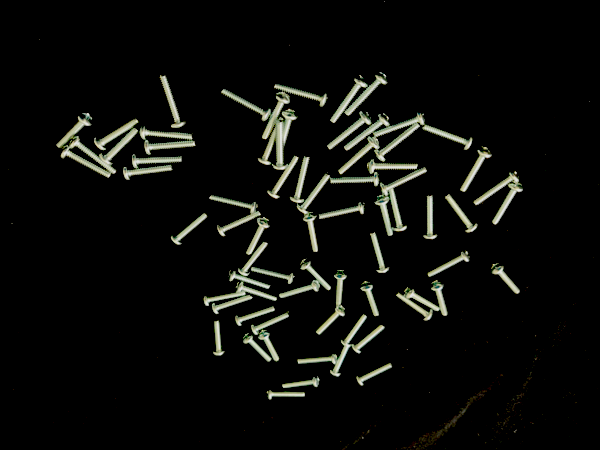longscrew: (344, 69, 390, 118), (329, 74, 370, 124), (69, 134, 118, 175), (219, 86, 273, 123), (325, 110, 373, 151), (344, 111, 391, 152), (373, 123, 421, 163), (474, 168, 521, 207), (60, 145, 112, 179), (93, 115, 140, 152), (337, 136, 381, 175), (158, 74, 188, 130), (458, 146, 493, 193), (99, 126, 140, 166), (378, 166, 429, 198), (374, 109, 427, 139), (273, 81, 329, 109), (54, 111, 95, 149), (296, 172, 332, 215), (267, 155, 301, 200), (261, 91, 292, 140), (492, 181, 525, 225), (443, 193, 479, 233), (422, 124, 475, 151), (257, 117, 285, 167), (170, 211, 210, 246), (428, 248, 471, 278), (237, 240, 270, 278), (395, 291, 435, 322), (217, 210, 261, 238), (351, 322, 387, 355), (299, 258, 332, 292), (245, 216, 273, 256), (209, 193, 259, 215), (289, 155, 311, 204), (490, 262, 522, 295), (318, 199, 366, 221), (250, 311, 292, 336), (340, 312, 369, 348), (387, 186, 409, 233), (211, 292, 254, 316), (139, 123, 195, 141), (357, 361, 395, 387), (404, 287, 442, 313), (368, 232, 391, 274), (242, 333, 273, 364), (316, 305, 347, 336), (366, 157, 419, 175), (228, 268, 271, 290), (235, 305, 276, 328), (278, 108, 299, 152), (131, 152, 185, 169), (235, 282, 278, 303), (374, 194, 395, 237), (144, 139, 197, 156), (250, 266, 296, 285), (330, 171, 381, 188), (273, 120, 290, 171), (278, 279, 321, 299), (421, 193, 439, 240), (122, 165, 174, 181), (301, 211, 320, 253), (329, 345, 352, 378), (360, 281, 381, 317), (258, 330, 280, 363), (203, 291, 247, 307), (430, 280, 449, 317), (211, 318, 226, 358), (282, 375, 321, 390), (297, 352, 338, 366), (334, 269, 349, 306), (266, 388, 306, 401)
